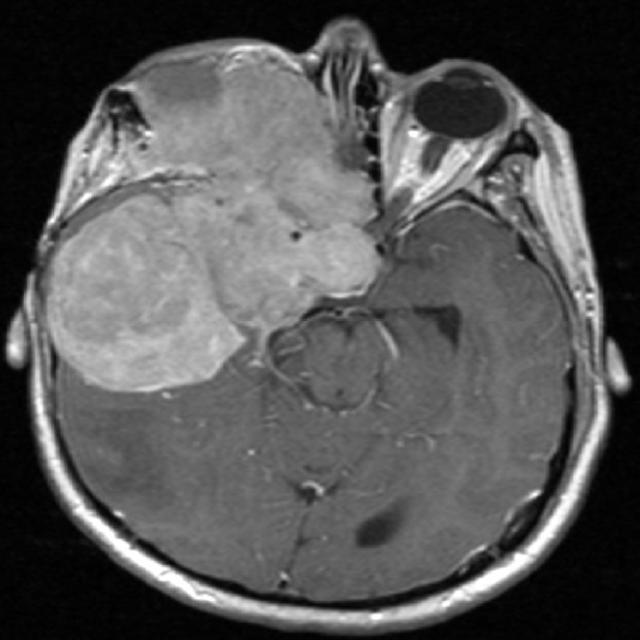meningioma: (47, 179, 381, 394)
